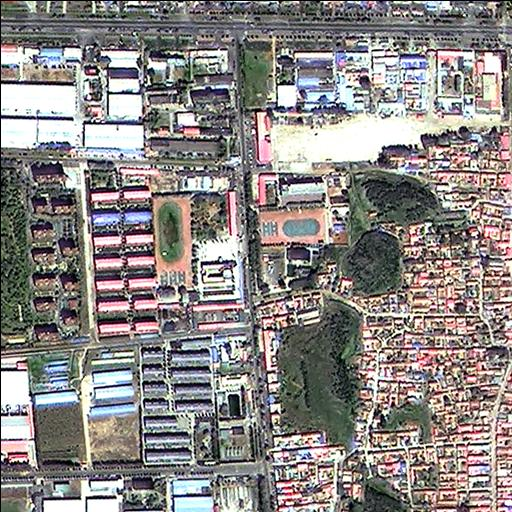school: (151, 190, 240, 302), (255, 207, 328, 299)
